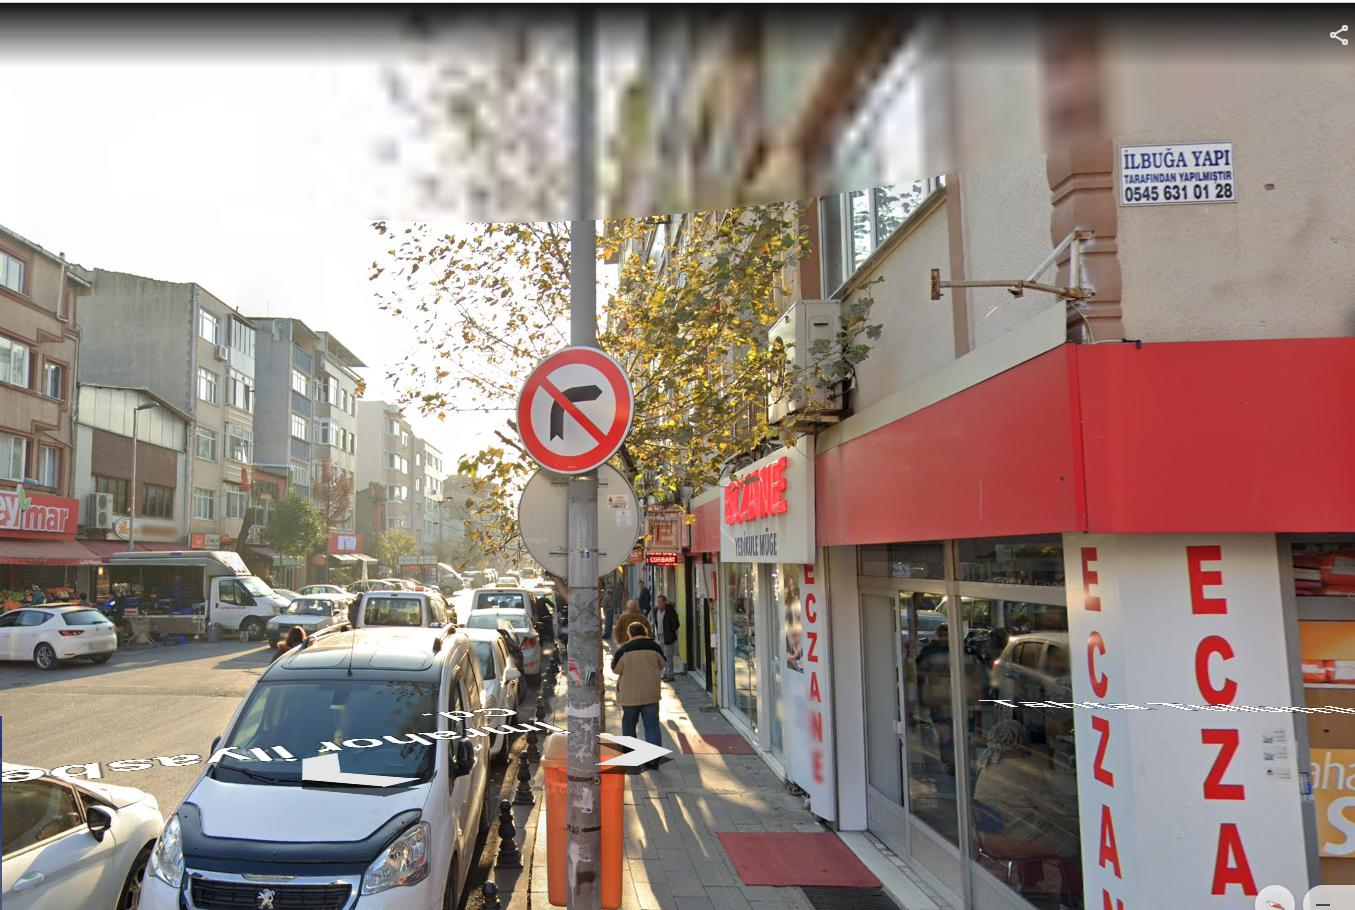rightturnsareforbidden: (508, 340, 638, 478)
